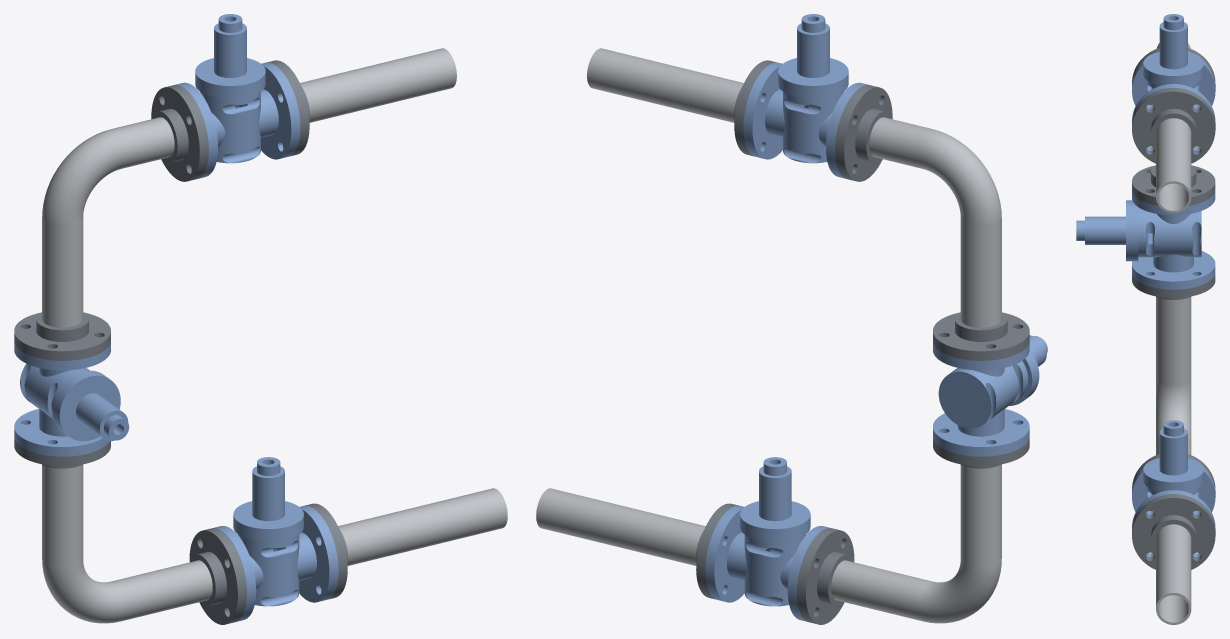
The model's file is step_33.glb.
3 renders of one model, left to right at view 1: azimuth 30°, elevation 25°; view 2: azimuth 150°, elevation 25°; view 3: azimuth 270°, elevation 25°, orthographic. The views are drawn at different scales.
Visible parts, largest first — view 1: part__body top valve, part__body bottom valve, part__bottom pipe, outlet, 360 long, part__top pipe, outlet, 335 long, part__body riser valve, part__bend 2 (top), part__riser pipe, upper, 230 long, part__riser pipe, lower, 70 long, part__bonnet riser valve, part__bottom pipe, inlet, 210 long, part__flange top, inlet, part__flange bottom, inlet (+8 smaller); view 2: part__body riser valve, part__body top valve, part__body bottom valve, part__bottom pipe, outlet, 360 long, part__top pipe, outlet, 335 long, part__bend 2 (top), part__riser pipe, upper, 230 long, part__riser pipe, lower, 70 long, part__bottom pipe, inlet, 210 long, part__flange top, inlet, part__flange bottom, inlet, part__flange riser, outlet (+7 smaller); view 3: part__body riser valve, part__flange top, outlet, part__flange bottom, outlet, part__bottom pipe, outlet, 360 long, part__top pipe, outlet, 335 long, part__riser pipe, lower, 70 long, part__bonnet top valve, part__bonnet bottom valve, part__bonnet riser valve, part__body top valve, part__body bottom valve, part__bend 1 (bottom) (+4 smaller).
Part boxes in pixels (left/top/right/bottom): part__body top valve: left=175, top=62, right=300, bottom=178; part__body bottom valve: left=212, top=505, right=338, bottom=621; part__bottom pipe, outlet, 360 long: left=338, top=488, right=507, bottom=565; part__top pipe, outlet, 335 long: left=300, top=48, right=456, bottom=122; part__body riser valve: left=14, top=342, right=110, bottom=456; part__bend 2 (top): left=42, top=129, right=126, bottom=226; part__riser pipe, upper, 230 long: left=42, top=218, right=83, bottom=327; part__riser pipe, lower, 70 long: left=42, top=464, right=83, bottom=567; part__bonnet riser valve: left=56, top=373, right=129, bottom=441; part__bottom pipe, inlet, 210 long: left=113, top=560, right=212, bottom=620; part__flange top, inlet: left=151, top=85, right=208, bottom=181; part__flange bottom, inlet: left=189, top=528, right=246, bottom=624; part__body riser valve: left=933, top=342, right=1035, bottom=456; part__body top valve: left=743, top=62, right=868, bottom=178; part__body bottom valve: left=705, top=505, right=831, bottom=621; part__bottom pipe, outlet, 360 long: left=536, top=488, right=705, bottom=565; part__top pipe, outlet, 335 long: left=587, top=48, right=743, bottom=122; part__bend 2 (top): left=917, top=129, right=1001, bottom=226; part__riser pipe, upper, 230 long: left=960, top=218, right=1001, bottom=327; part__riser pipe, lower, 70 long: left=960, top=464, right=1001, bottom=567; part__bottom pipe, inlet, 210 long: left=831, top=560, right=930, bottom=620; part__flange top, inlet: left=835, top=85, right=892, bottom=181; part__flange bottom, inlet: left=797, top=528, right=854, bottom=624; part__flange riser, outlet: left=933, top=312, right=1029, bottom=360; part__body riser valve: left=1132, top=191, right=1215, bottom=289; part__flange top, outlet: left=1132, top=87, right=1215, bottom=163; part__flange bottom, outlet: left=1132, top=494, right=1215, bottom=569; part__bottom pipe, outlet, 360 long: left=1156, top=524, right=1191, bottom=624; part__top pipe, outlet, 335 long: left=1156, top=118, right=1191, bottom=213; part__riser pipe, lower, 70 long: left=1156, top=296, right=1191, bottom=385; part__bonnet top valve: left=1143, top=14, right=1203, bottom=81; part__bonnet bottom valve: left=1143, top=420, right=1203, bottom=487; part__bonnet riser valve: left=1076, top=200, right=1132, bottom=261; part__body top valve: left=1132, top=51, right=1215, bottom=150; part__body bottom valve: left=1132, top=458, right=1215, bottom=556; part__bend 1 (bottom): left=1156, top=379, right=1191, bottom=445.
Size of the model in its own units: 937 by 1124 by 274.
